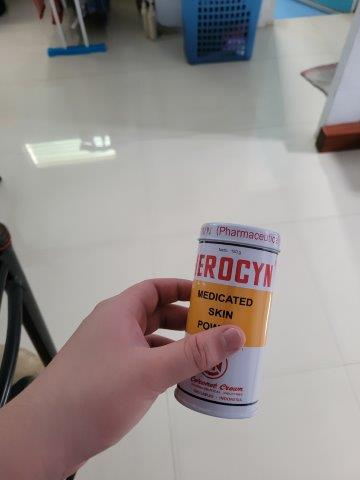kaleng: (175, 224, 281, 418)
